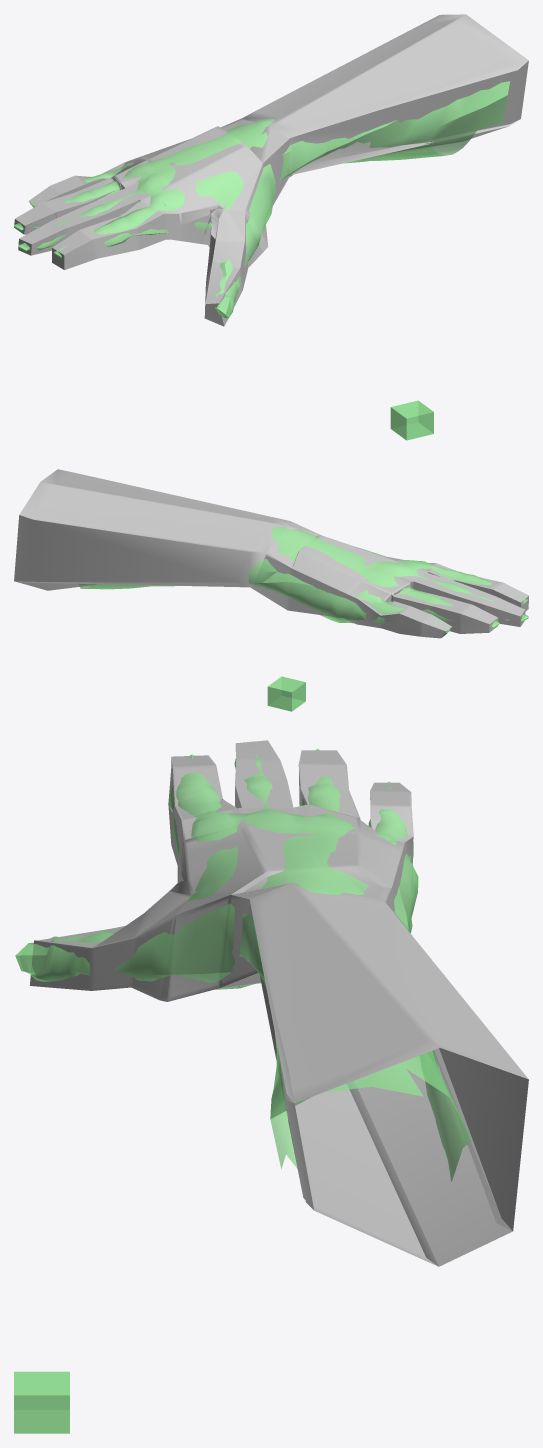
File: hand.obj
3 renders of one model, top to bottom at view 1: azimuth 30°, elevation 25°; view 2: azimuth 150°, elevation 25°; view 3: azimuth 270°, elevation 25°, orthographic. The views are drawn at different scales.
Visible parts, largest first — view 1: mesh02, 1493655628.0, cube01; view 2: mesh02, 1493655628.0, cube01; view 3: mesh02, 1493655628.0, cube01.
Part boxes in pixels (x1,y1,x2,y2): mesh02: [14, 14, 528, 326]; 1493655628.0: [14, 81, 510, 318]; cube01: [390, 400, 433, 440]; mesh02: [14, 469, 528, 638]; 1493655628.0: [78, 527, 528, 634]; cube01: [267, 676, 305, 711]; mesh02: [30, 740, 528, 1266]; 1493655628.0: [15, 748, 471, 1181]; cube01: [14, 1371, 69, 1433].
Bounding box in the file's own units: 22.17 × 11.91 × 10.74.
